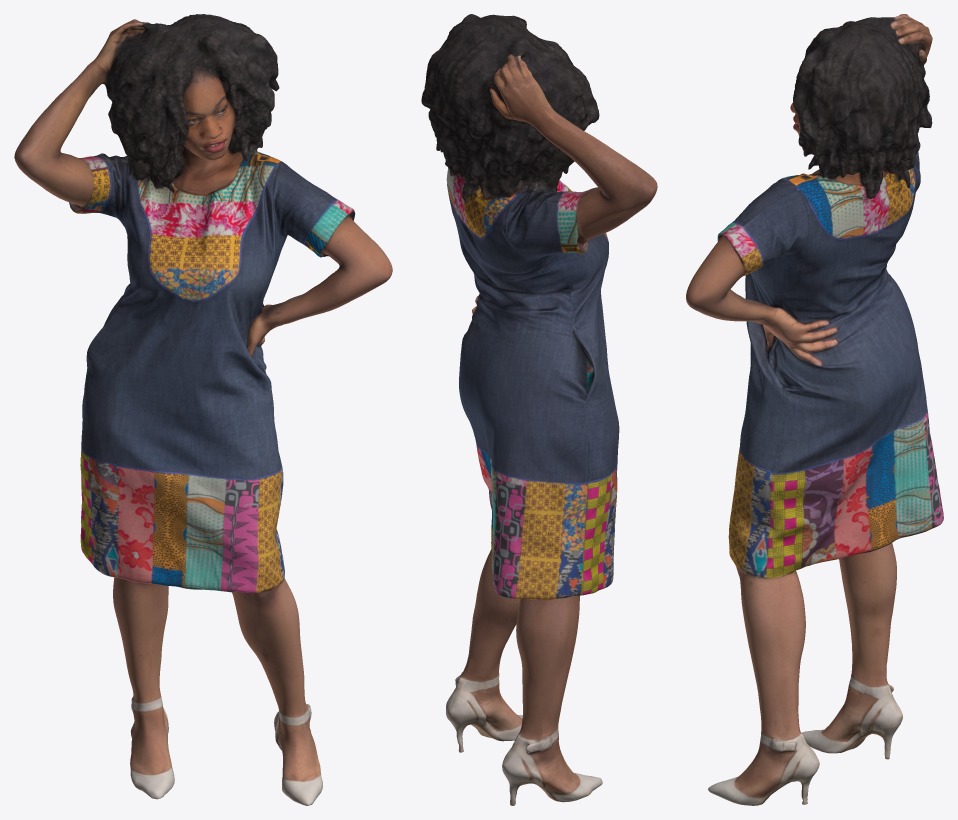
Rendered from african-woman.glb.
3 views of the same model, side by side, from view 1: azimuth 30°, elevation 25°; view 2: azimuth 150°, elevation 25°; view 3: azimuth 270°, elevation 25° (orthographic). The views are drawn at different scales.
Visible parts, largest first — view 1: Object_2; view 2: Object_2; view 3: Object_2.
Boxes of the visible parts, x1,y1,x2,y2 form: Object_2: (14, 14, 392, 805); Object_2: (421, 14, 657, 805); Object_2: (686, 14, 943, 805).
Size of the model in its own units: 69.15 by 175 by 54.8.
1 material, 1 textured.
